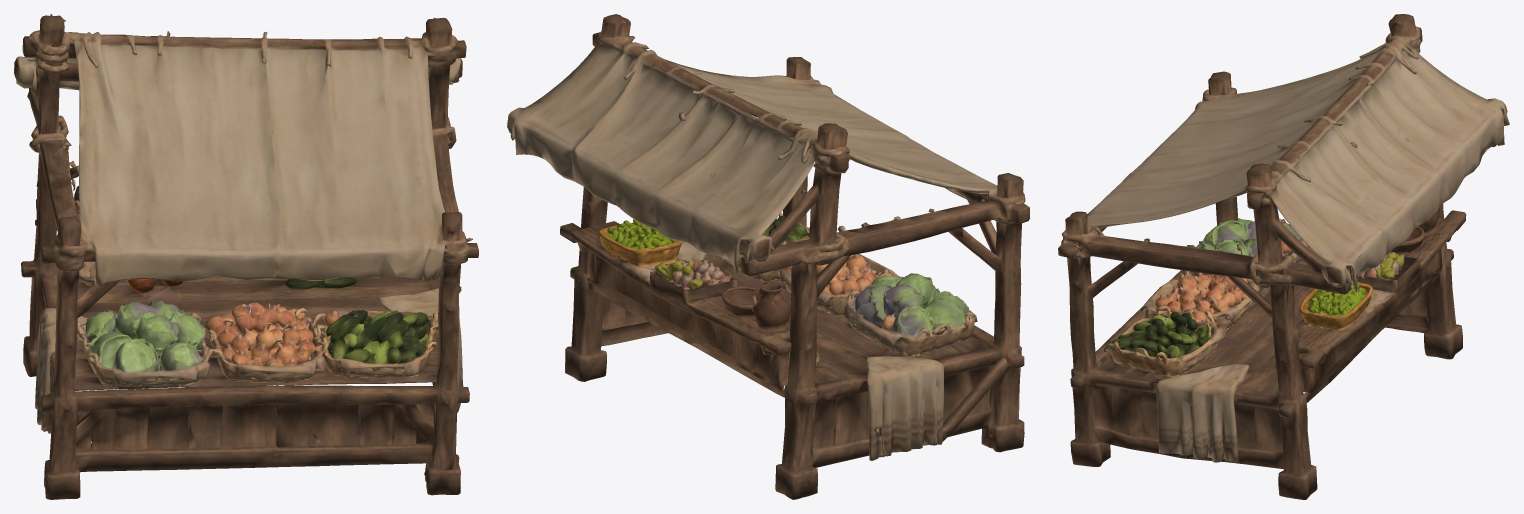
The model's file is vegetable-market-stall-pixal3d-runtime.glb.
The picture shows the model from 3 angles, left to right: view 1: azimuth 30°, elevation 25°; view 2: azimuth 150°, elevation 25°; view 3: azimuth 270°, elevation 25°; orthographic projection. The views are drawn at different scales.
Parts seen in each view (by area): view 1: geometry_0; view 2: geometry_0; view 3: geometry_0.
Part boxes in pixels (x1,y1,x2,y2): geometry_0: [14, 14, 478, 499]; geometry_0: [507, 14, 1029, 499]; geometry_0: [1058, 14, 1509, 499].
Bounding box in the file's own units: 3.58 × 2.8 × 3.26.
1 material, 1 textured.
